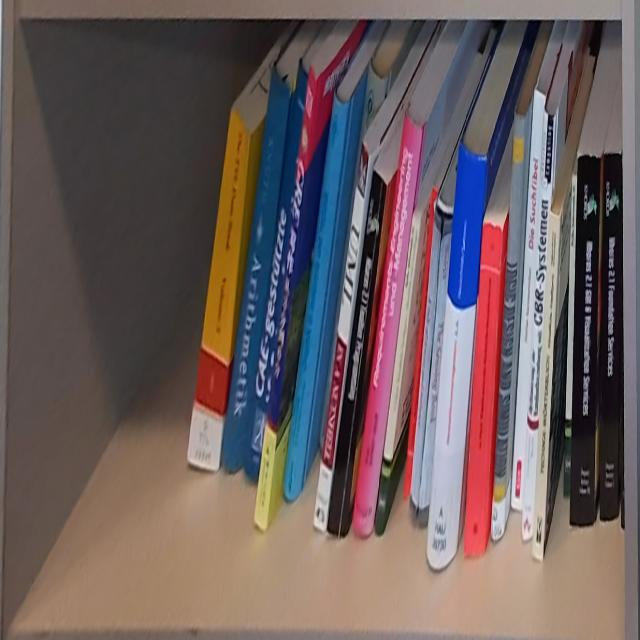Book Spine: (352, 116, 424, 540), (220, 69, 294, 474), (254, 66, 318, 531), (282, 90, 352, 502), (243, 62, 310, 480), (426, 142, 487, 569), (186, 109, 252, 472), (313, 142, 370, 533), (327, 169, 387, 539), (490, 113, 527, 542), (510, 89, 546, 513), (521, 109, 556, 543), (375, 217, 421, 540), (409, 209, 453, 530), (464, 223, 503, 558), (570, 155, 602, 528), (532, 211, 561, 563), (600, 153, 622, 521), (564, 172, 577, 500)
